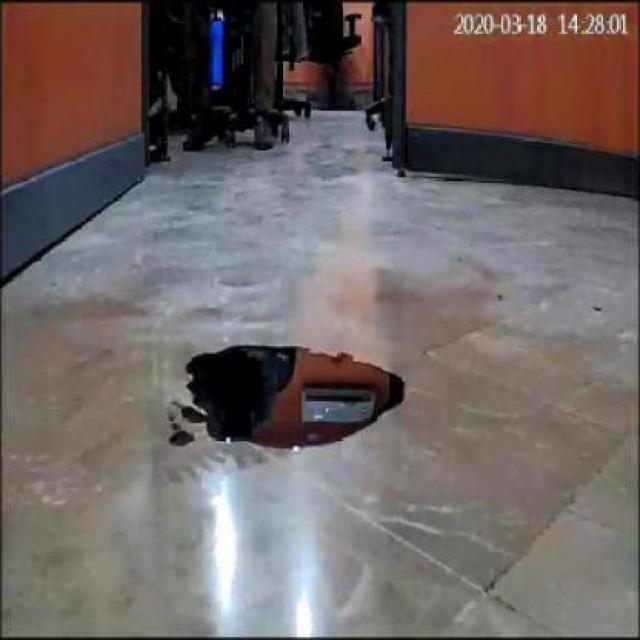spillage: (175, 343, 415, 450)
